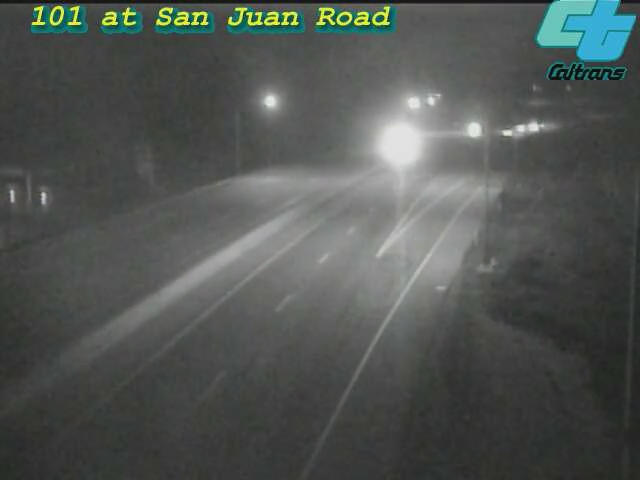vehicle: (370, 124, 420, 174), (448, 104, 498, 154), (515, 98, 565, 148), (496, 103, 546, 153), (482, 107, 532, 157)
